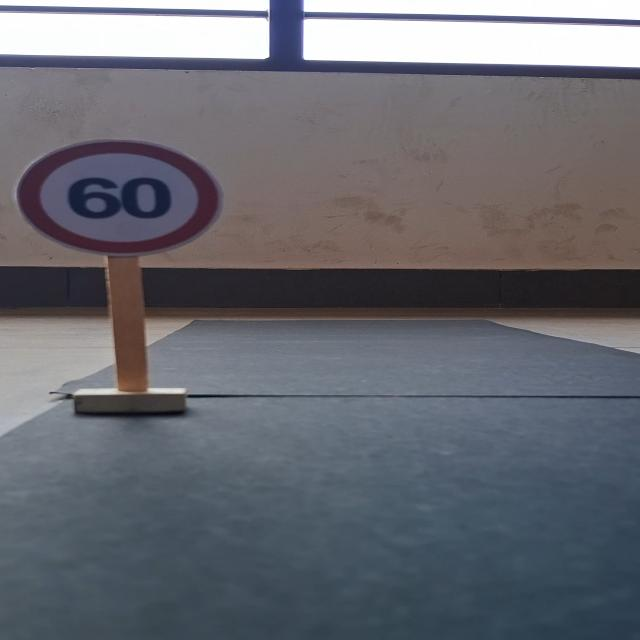Speed60: (4, 137, 230, 256)
